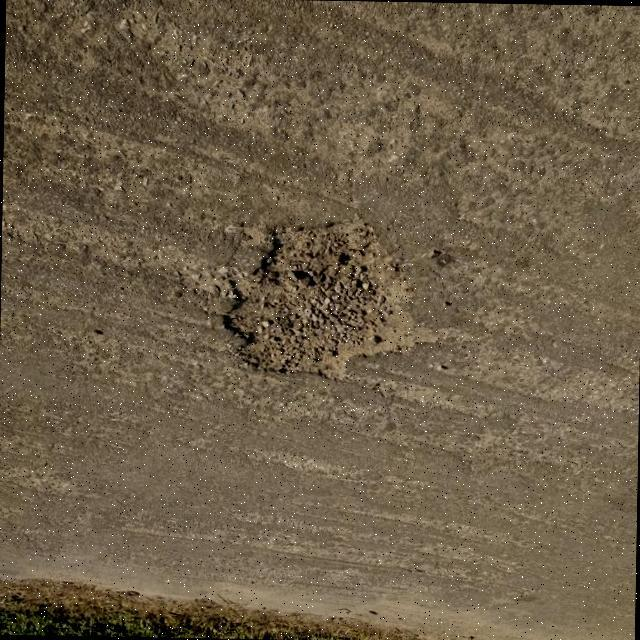Pothole: (218, 222, 439, 378)
